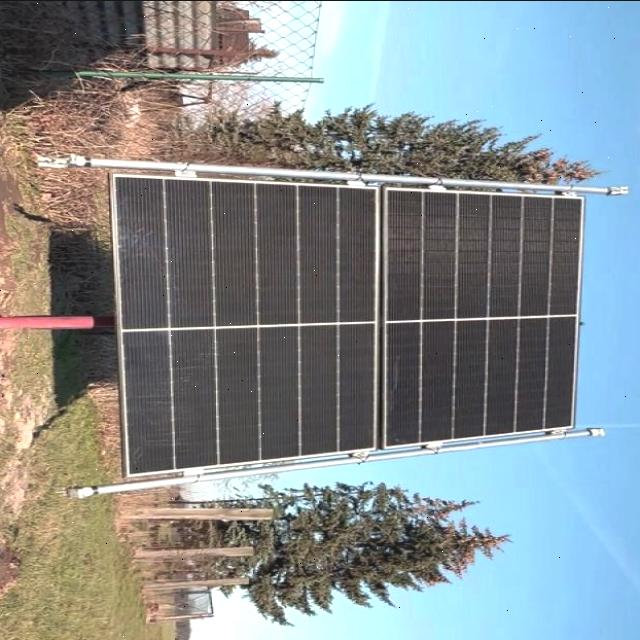Normal Solar Panel: (110, 172, 584, 476)
